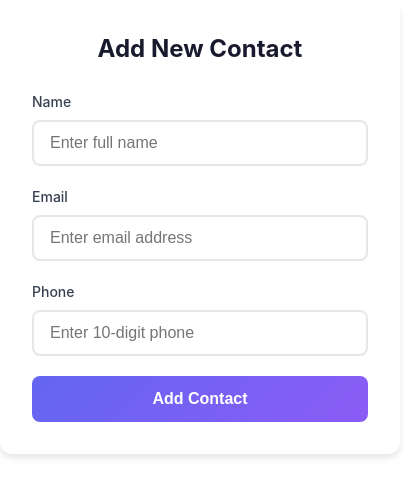
Test: ContactForm › shows validation error for invalid phone
This screenshot has width=418, height=501.
Type "123" into the field labelled "Phone". click: (200, 333)
box: [32, 310, 368, 356]
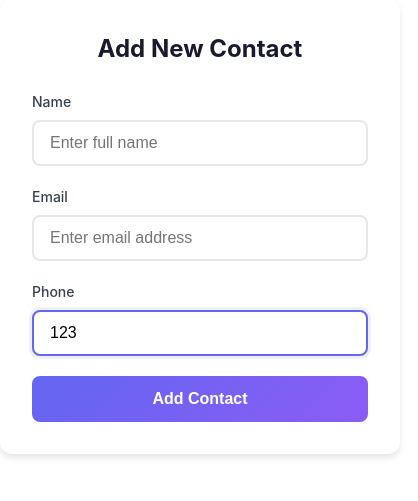
Leave the field labelled "Phone", box [32, 310, 368, 356]
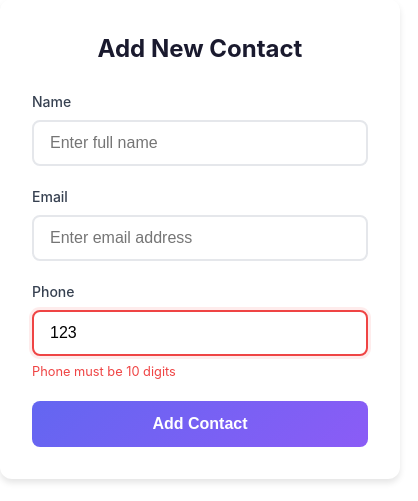
Expected: the text "Phone must be 10 digits" is shown, [32, 364, 176, 379]
